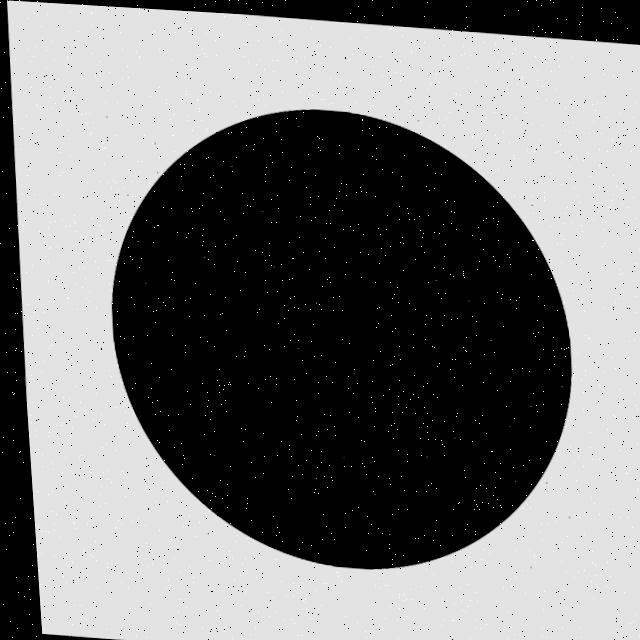CIRCLE: (107, 105, 566, 564)
